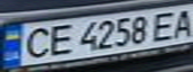2: (93, 17, 118, 52)
4: (75, 18, 100, 53)
5: (115, 15, 136, 48)
8: (127, 12, 154, 46)
A: (169, 6, 193, 38)
C: (18, 25, 54, 60)
E: (42, 21, 78, 56), (148, 9, 181, 43)
